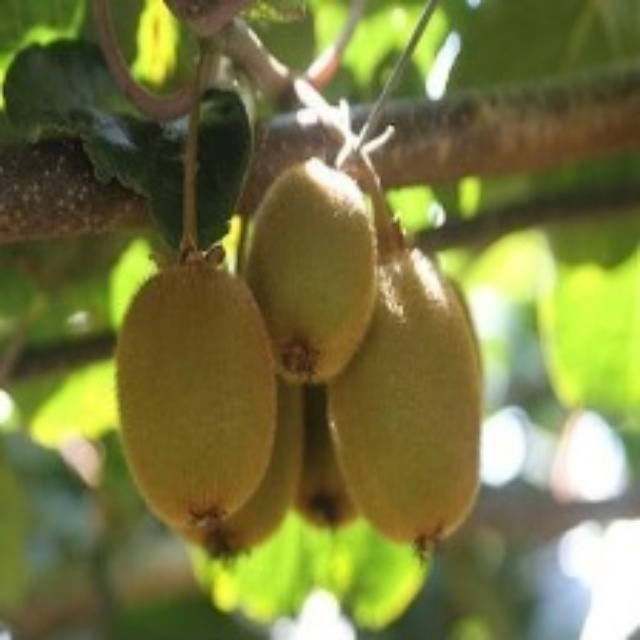kiwi: (112, 253, 307, 570), (338, 270, 491, 556), (249, 168, 383, 378)
